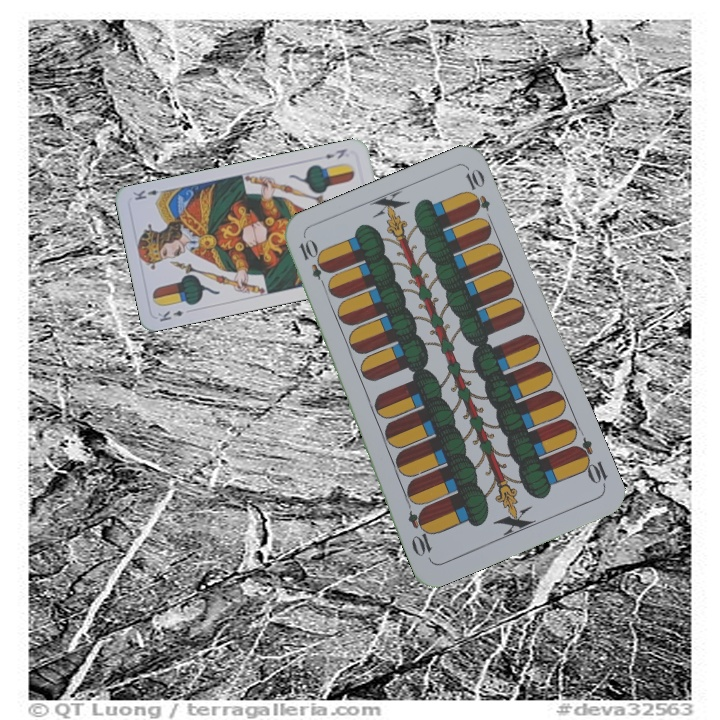E10: (569, 434, 610, 491), (295, 235, 331, 293)
EK: (154, 305, 195, 324), (321, 144, 349, 162)
